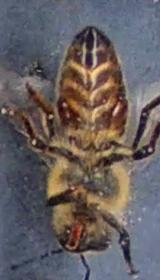varroa_mite: (57, 88, 75, 128), (110, 92, 128, 119)
